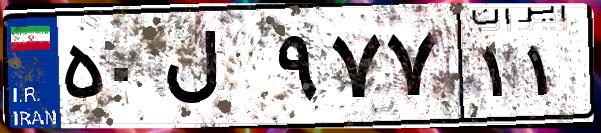0: (110, 28, 158, 98)
1: (475, 38, 525, 113), (525, 38, 570, 115)
5: (57, 26, 110, 100)
7: (385, 28, 445, 110), (330, 28, 385, 110)
9: (270, 28, 330, 110)
ل: (158, 20, 270, 120)
